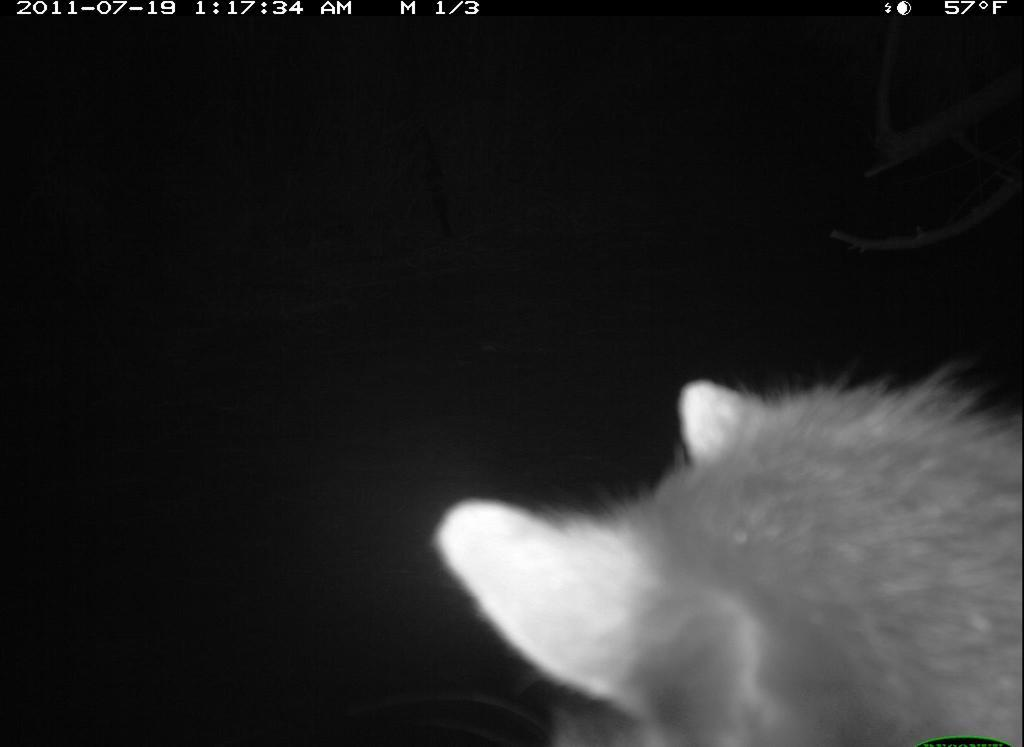raccoon: (432, 336, 1022, 742)
